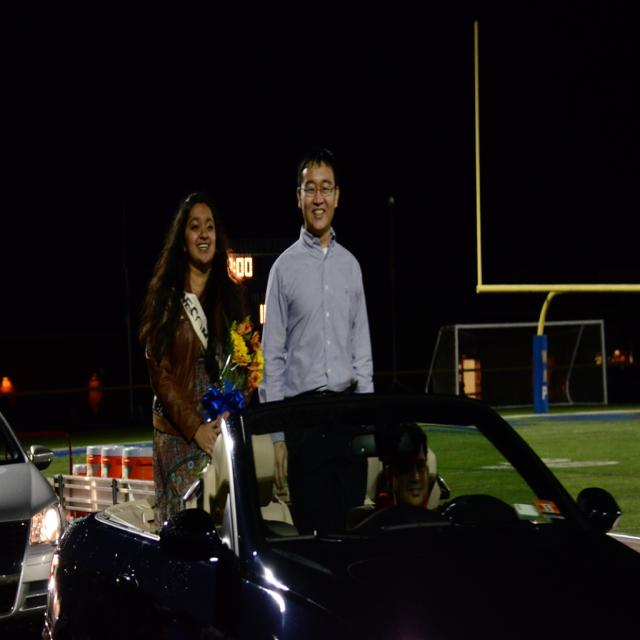car: (4, 418, 68, 610)
